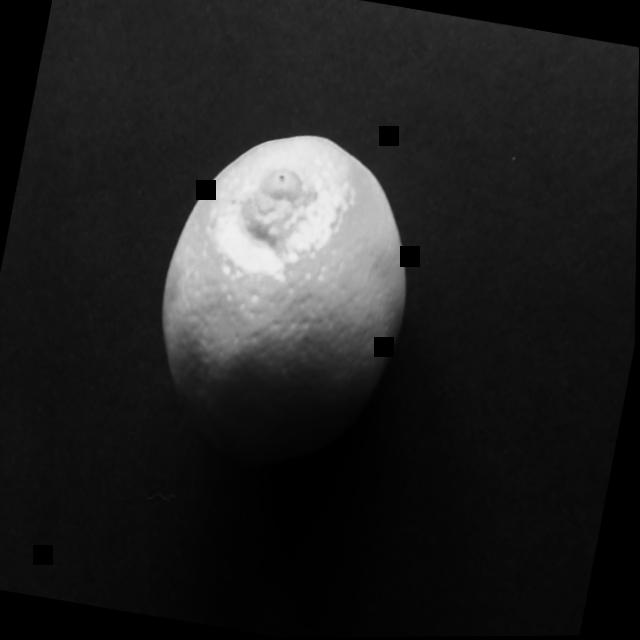Lemon: (93, 56, 470, 536)
